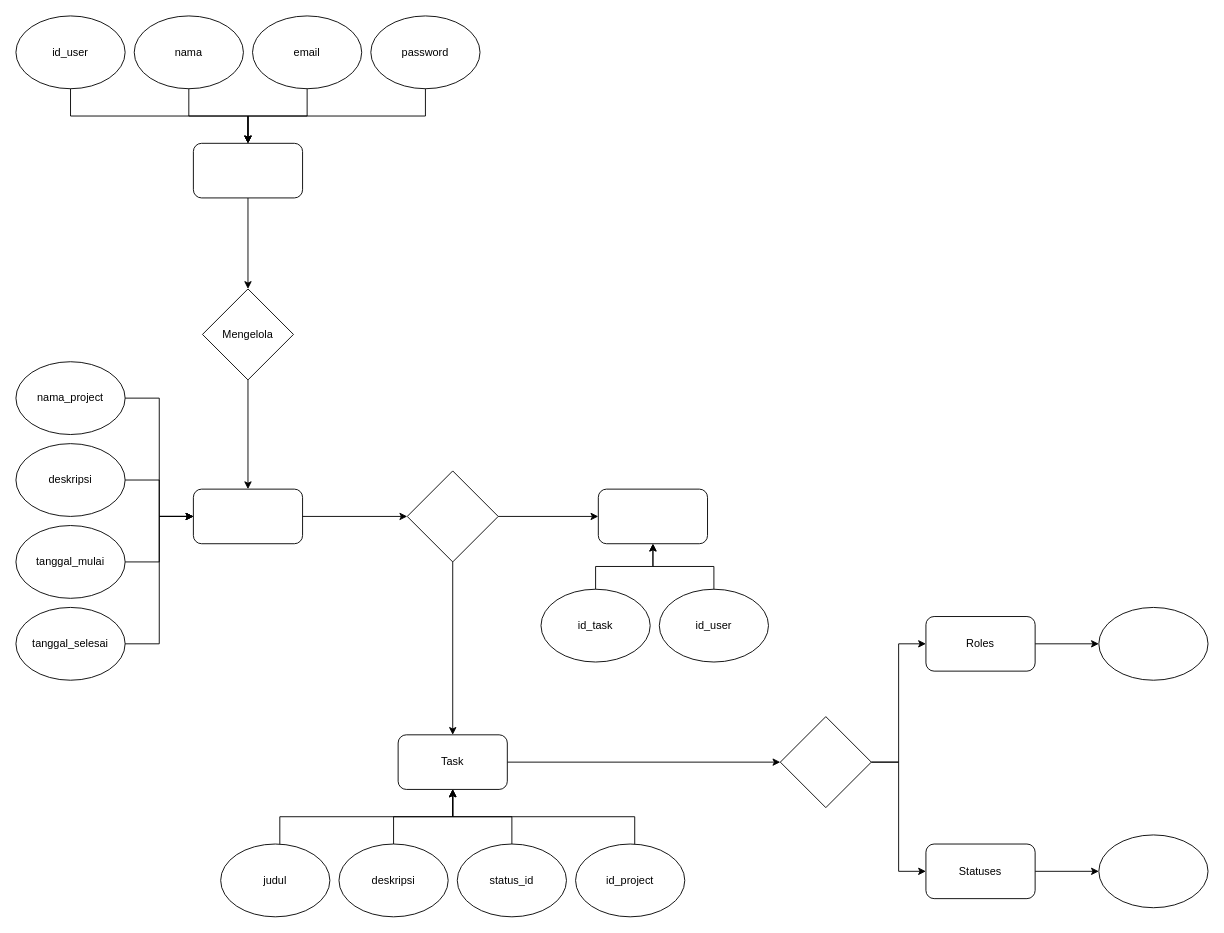
Some shapes in this 1224 by 933 pixel diagram are drawn without their labels. The shapes that lost their labels are listed below. From the top down, each one's centre as x and y in pixels, then its label:
the point at 247,170: Users
the point at 247,516: Project
the point at 452,516: Memiliki
the point at 652,516: Task_user
the point at 1153,643: nama_role
the point at 825,762: Mengambil
the point at 1153,871: nama_status
